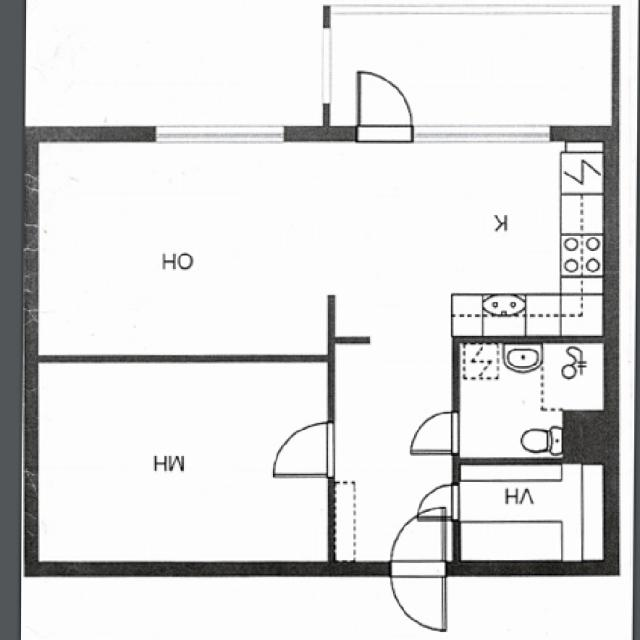door: (357, 72, 412, 141), (391, 509, 444, 577), (391, 562, 444, 630), (274, 423, 334, 475), (411, 411, 459, 452), (417, 484, 459, 518)
